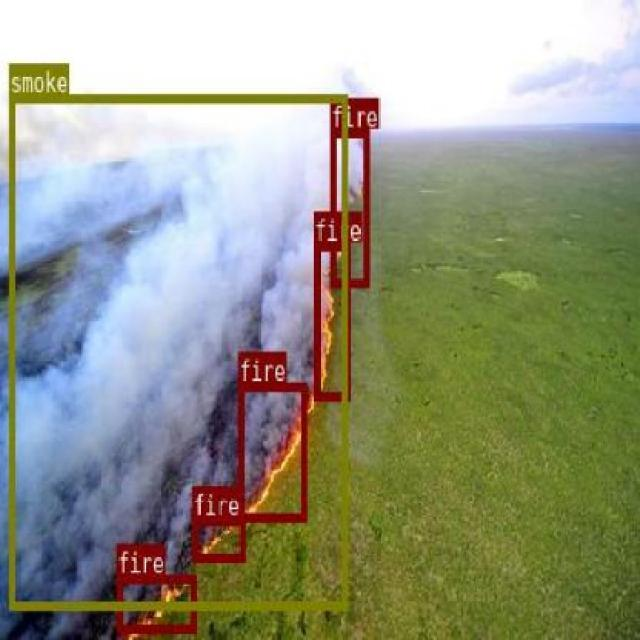fire: (238, 381, 306, 521), (330, 128, 368, 284), (313, 242, 349, 398), (116, 573, 196, 632), (191, 516, 244, 561)
smoke: (8, 91, 346, 608)
